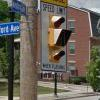Traffic light: (41, 9, 84, 83)
